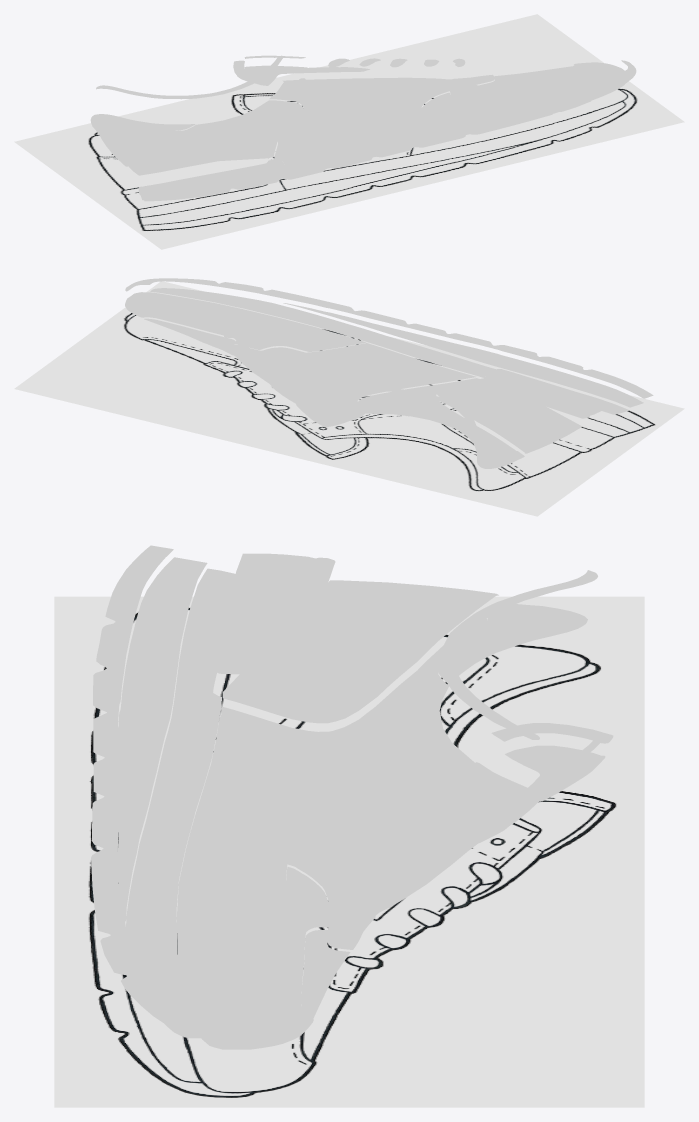
File: NewBalance990.FBX
3 renders of one model, top to bottom at view 1: azimuth 30°, elevation 25°; view 2: azimuth 150°, elevation 25°; view 3: azimuth 270°, elevation 25°, orthographic. The views are drawn at different scales.
Parts seen in each view (by area): view 1: Plane001, Line008, Line005, Line001, Line010, Line012, Line009, Line004, Line013, Line002, Line011, Line003 (+3 smaller); view 2: Plane001, Line005, Line008, Line010, Line004, Line001, Line002, Line012, Line009, Line013, Line011, Line017 (+2 smaller); view 3: Plane001, Line008, Line005, Line010, Line004, Line012, Line002, Line001, Line009, Line013, Line003, Line011 (+4 smaller).
Boxes of the visible parts, bbox=[...] form: Plane001: bbox=[14, 14, 684, 249]; Line008: bbox=[269, 74, 494, 156]; Line005: bbox=[411, 62, 626, 132]; Line001: bbox=[142, 60, 636, 201]; Line010: bbox=[98, 128, 277, 166]; Line012: bbox=[184, 66, 571, 159]; Line009: bbox=[122, 139, 267, 175]; Line004: bbox=[280, 79, 624, 165]; Line013: bbox=[312, 82, 412, 120]; Line002: bbox=[140, 131, 468, 200]; Line011: bbox=[90, 114, 195, 133]; Line003: bbox=[138, 158, 284, 195]; Plane001: bbox=[14, 281, 684, 516]; Line005: bbox=[125, 292, 366, 351]; Line008: bbox=[204, 339, 476, 411]; Line010: bbox=[436, 378, 582, 453]; Line004: bbox=[150, 288, 495, 377]; Line001: bbox=[125, 278, 653, 398]; Line002: bbox=[283, 303, 643, 407]; Line012: bbox=[144, 318, 515, 450]; Line009: bbox=[484, 369, 612, 418]; Line013: bbox=[273, 348, 400, 387]; Line011: bbox=[453, 427, 524, 468]; Line017: bbox=[268, 380, 354, 427]; Plane001: bbox=[54, 596, 644, 1107]; Line008: bbox=[191, 716, 527, 949]; Line005: bbox=[176, 830, 329, 1049]; Line010: bbox=[222, 580, 498, 723]; Line004: bbox=[126, 702, 221, 1038]; Line012: bbox=[221, 618, 487, 1018]; Line002: bbox=[117, 557, 207, 921]; Line001: bbox=[91, 545, 251, 1039]; Line009: bbox=[213, 553, 335, 674]; Line013: bbox=[257, 753, 447, 865]; Line003: bbox=[174, 568, 235, 708]; Line011: bbox=[438, 604, 587, 682].
Bounding box in the file's own units: 252 × 21.35 × 123.
